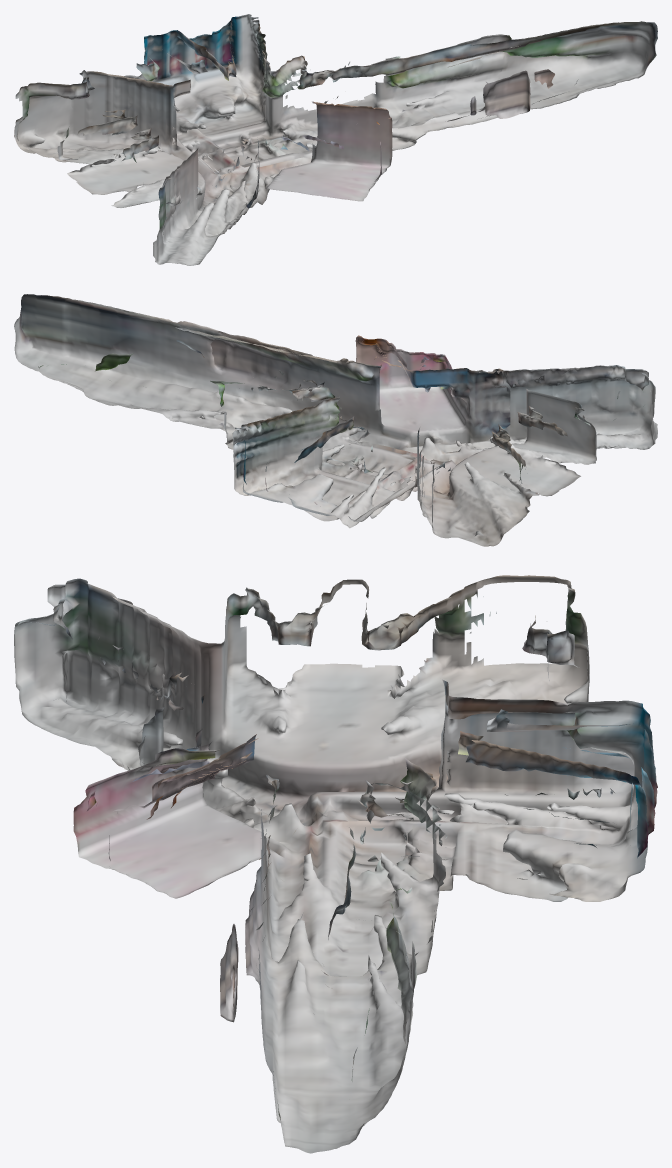
The model's file is collider.glb.
The picture shows the model from 3 angles, top to bottom: view 1: azimuth 30°, elevation 25°; view 2: azimuth 150°, elevation 25°; view 3: azimuth 270°, elevation 25°; orthographic projection. The views are drawn at different scales.
Parts seen in each view (by area): view 1: world; view 2: world; view 3: world.
Boxes of the visible parts, x1,y1,x2,y2 form: world: (14,14,657,265); world: (14,294,657,546); world: (14,575,657,1153).
Size of the model in its own units: 12.73 by 1.75 by 7.18.
